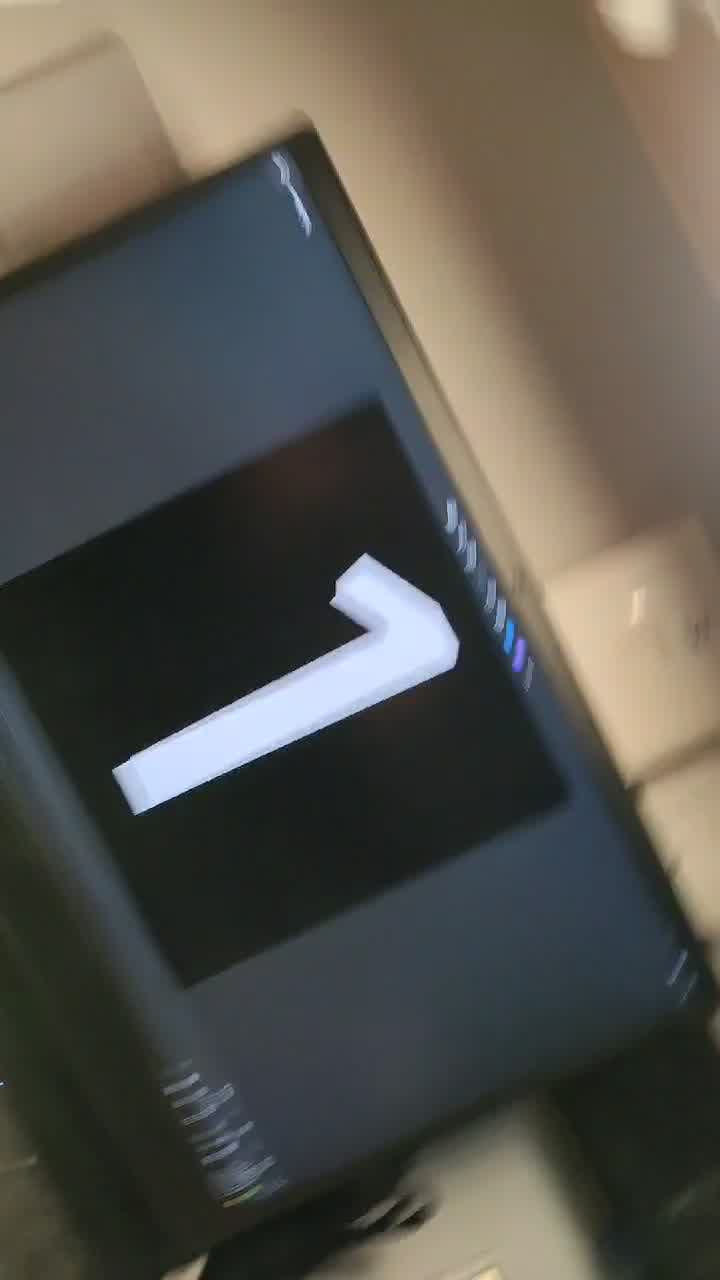one: (81, 491, 483, 968)
